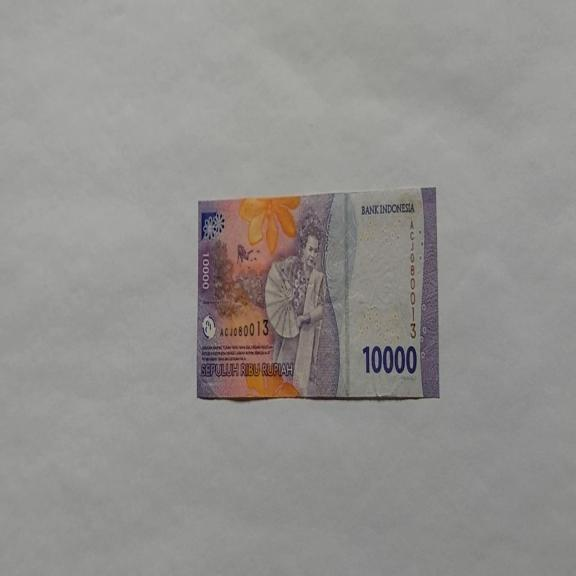Kertas: (196, 186, 439, 401), (362, 342, 418, 376)
